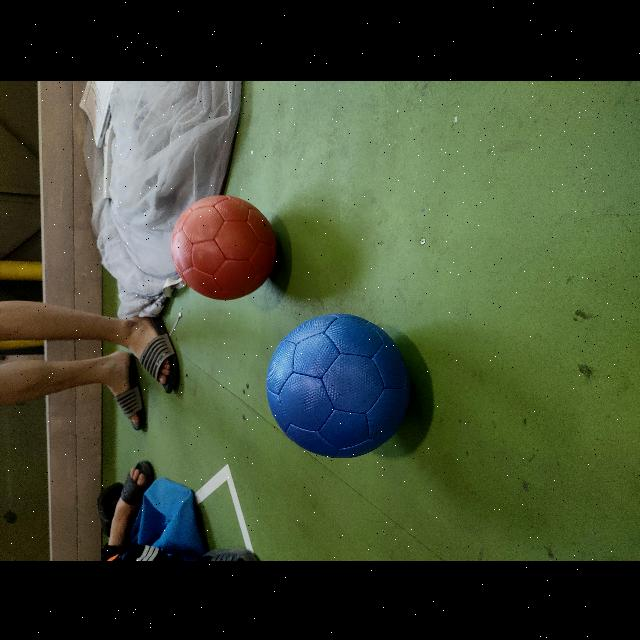B: (266, 312, 410, 458)
R: (171, 194, 278, 299)
